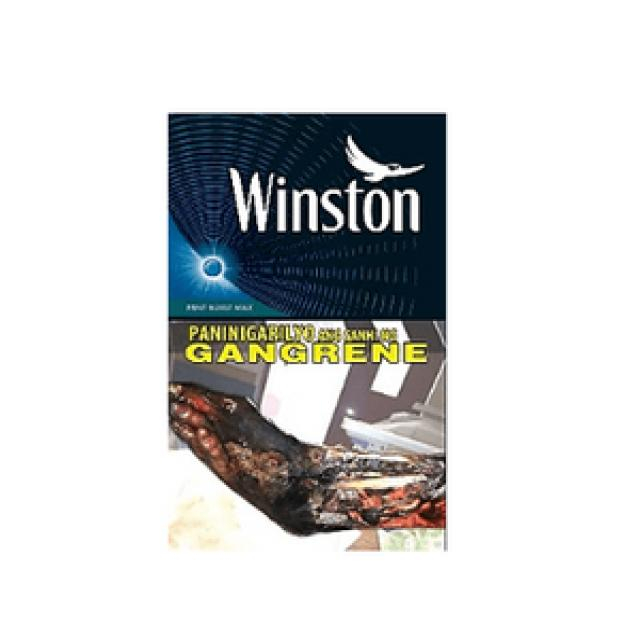winston: (157, 102, 460, 573)
